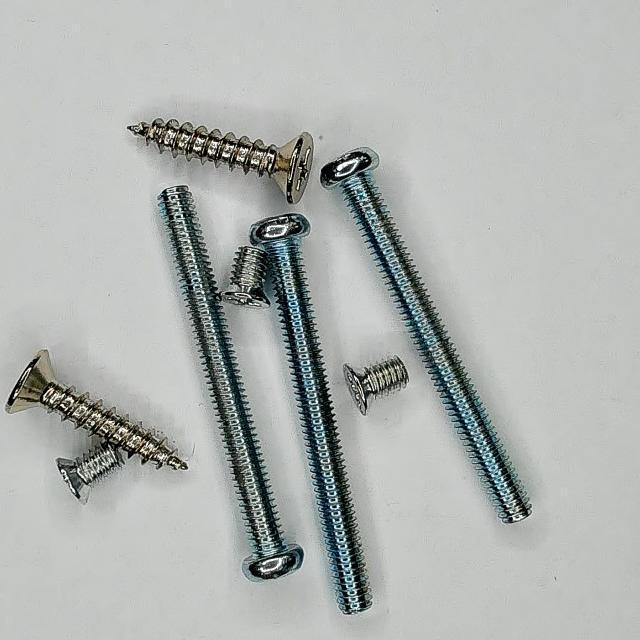Screw: (321, 148, 531, 522), (159, 186, 304, 582), (250, 214, 372, 616), (5, 350, 188, 470), (127, 118, 314, 204), (55, 443, 124, 504), (344, 357, 410, 416), (220, 247, 271, 308)
